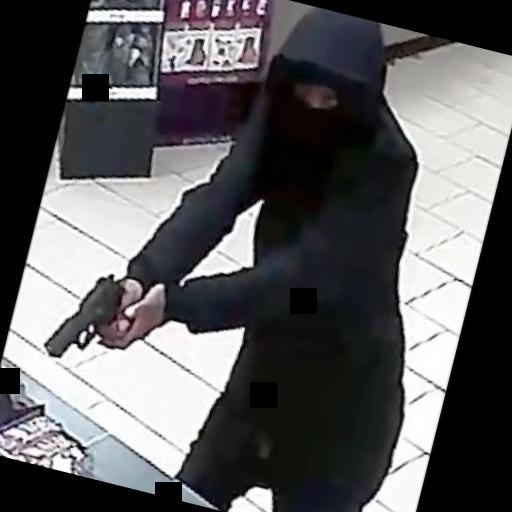Handgun: (39, 262, 147, 374)
